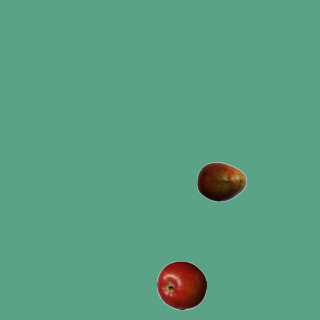Apple Braeburn: (156, 260, 206, 310)
Mango Red: (196, 156, 246, 206)
